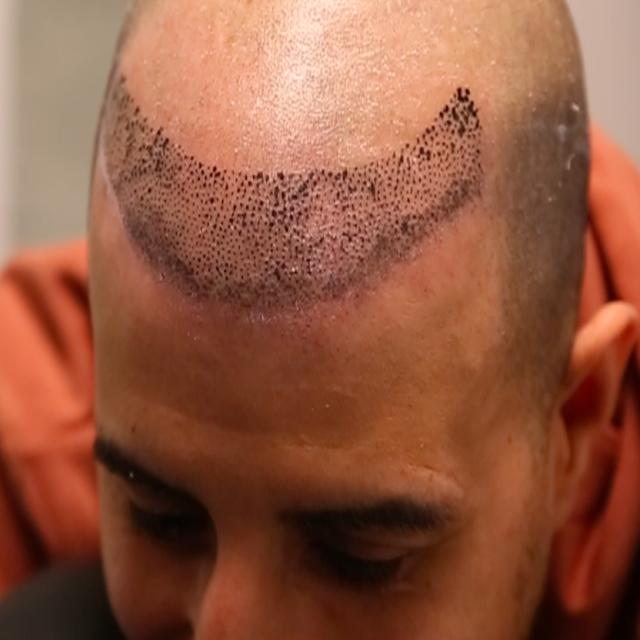no_helmet: (63, 0, 619, 330)
